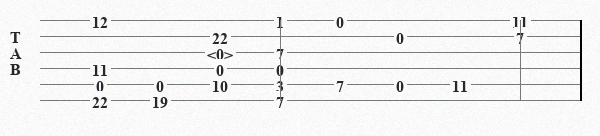0: (96, 77, 108, 92), (156, 77, 168, 92), (216, 61, 228, 76), (276, 61, 288, 76), (336, 13, 348, 28), (396, 29, 408, 44), (396, 77, 408, 92)
1: (276, 13, 288, 28)
10: (212, 77, 232, 92)
11: (92, 61, 112, 76), (452, 77, 472, 92), (512, 13, 532, 28)
12: (92, 13, 112, 28)
19: (152, 93, 172, 108)
22: (92, 93, 112, 108), (212, 29, 232, 44)
3: (276, 77, 288, 92)
7: (276, 45, 288, 60), (276, 93, 288, 108), (336, 77, 348, 92), (516, 29, 528, 44)
harmonic: (207, 45, 237, 60)
